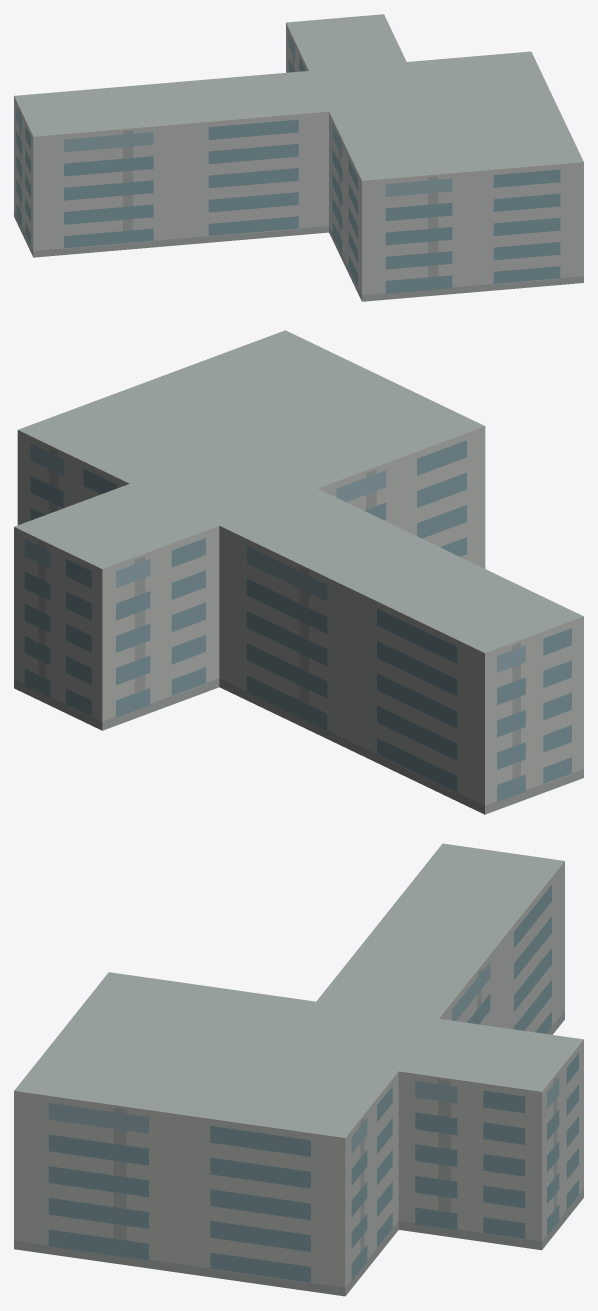
The model's file is residential-f353fddd-bc15-4663-bdb0-805271eb4f20.glb.
3 views of the same model, one above another, from view 1: azimuth 30°, elevation 25°; view 2: azimuth 150°, elevation 25°; view 3: azimuth 270°, elevation 25° (orthographic). The views are drawn at different scales.
Parts seen in each view (by area): view 1: residential-f353fddd-bc15-4663-bdb0-805271eb4f20.tmp; view 2: residential-f353fddd-bc15-4663-bdb0-805271eb4f20.tmp; view 3: residential-f353fddd-bc15-4663-bdb0-805271eb4f20.tmp.
Boxes of the visible parts, box(x1,y1,x2,y2) form: residential-f353fddd-bc15-4663-bdb0-805271eb4f20.tmp: box(14, 14, 583, 301); residential-f353fddd-bc15-4663-bdb0-805271eb4f20.tmp: box(14, 330, 583, 814); residential-f353fddd-bc15-4663-bdb0-805271eb4f20.tmp: box(14, 843, 583, 1296).
Bounding box in the file's own units: 60.86 × 15.25 × 49.75.
